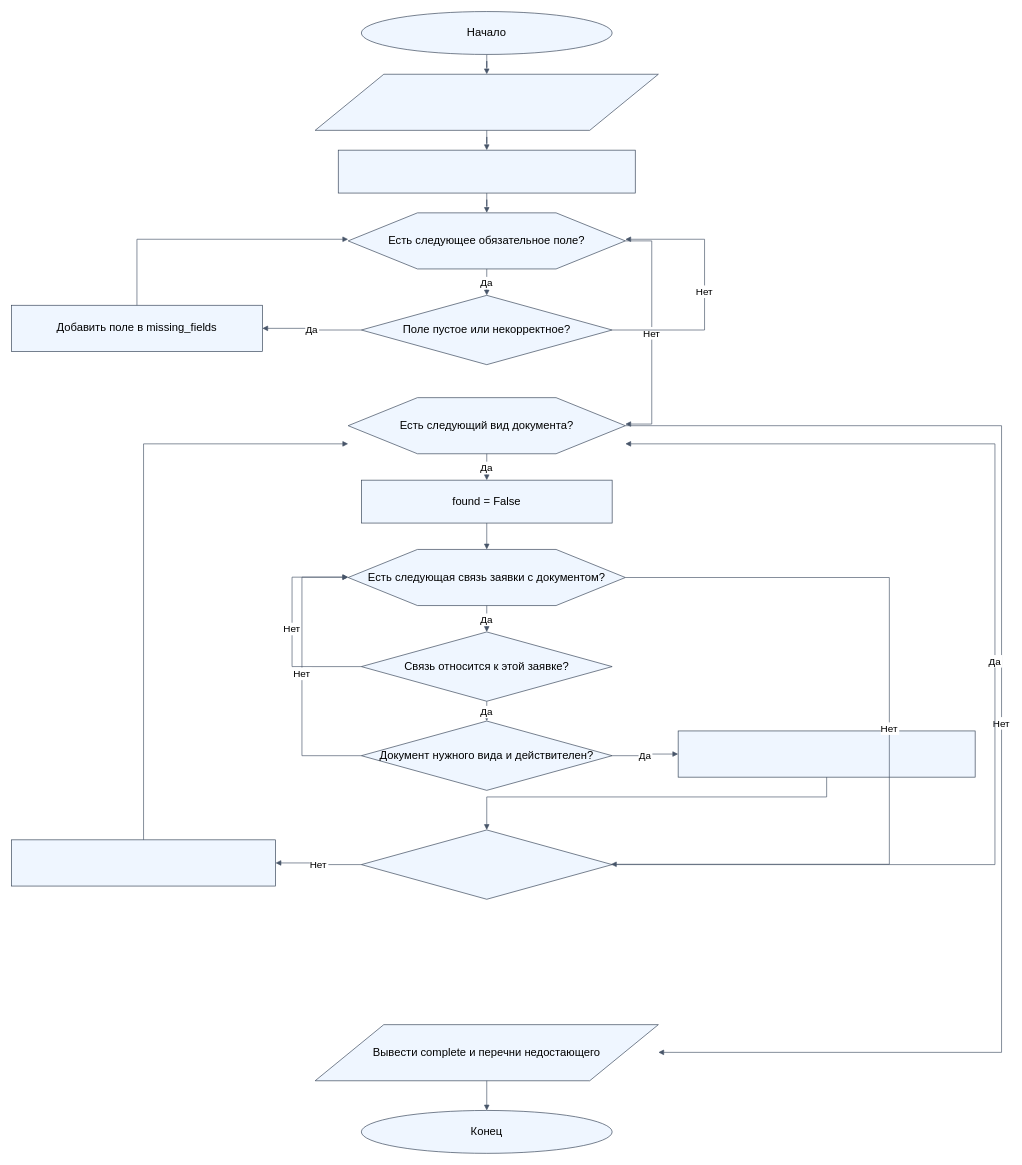
The diagram is 1022 pixels wide and 1165 high, and some of its shapes have lost their labels. The box of each missing label's shape, as (x1, y1, x2, y2) in pixels:
found = True; выйти из внутреннего цикла: (677, 730, 975, 777)
missing_fields = []; missing_documents = []: (338, 149, 635, 193)
Ввести заявку, заявителя, документы, связи и требования: (314, 74, 658, 130)
Добавить вид в missing_documents: (11, 839, 276, 886)
Документ найден?: (361, 829, 612, 899)
